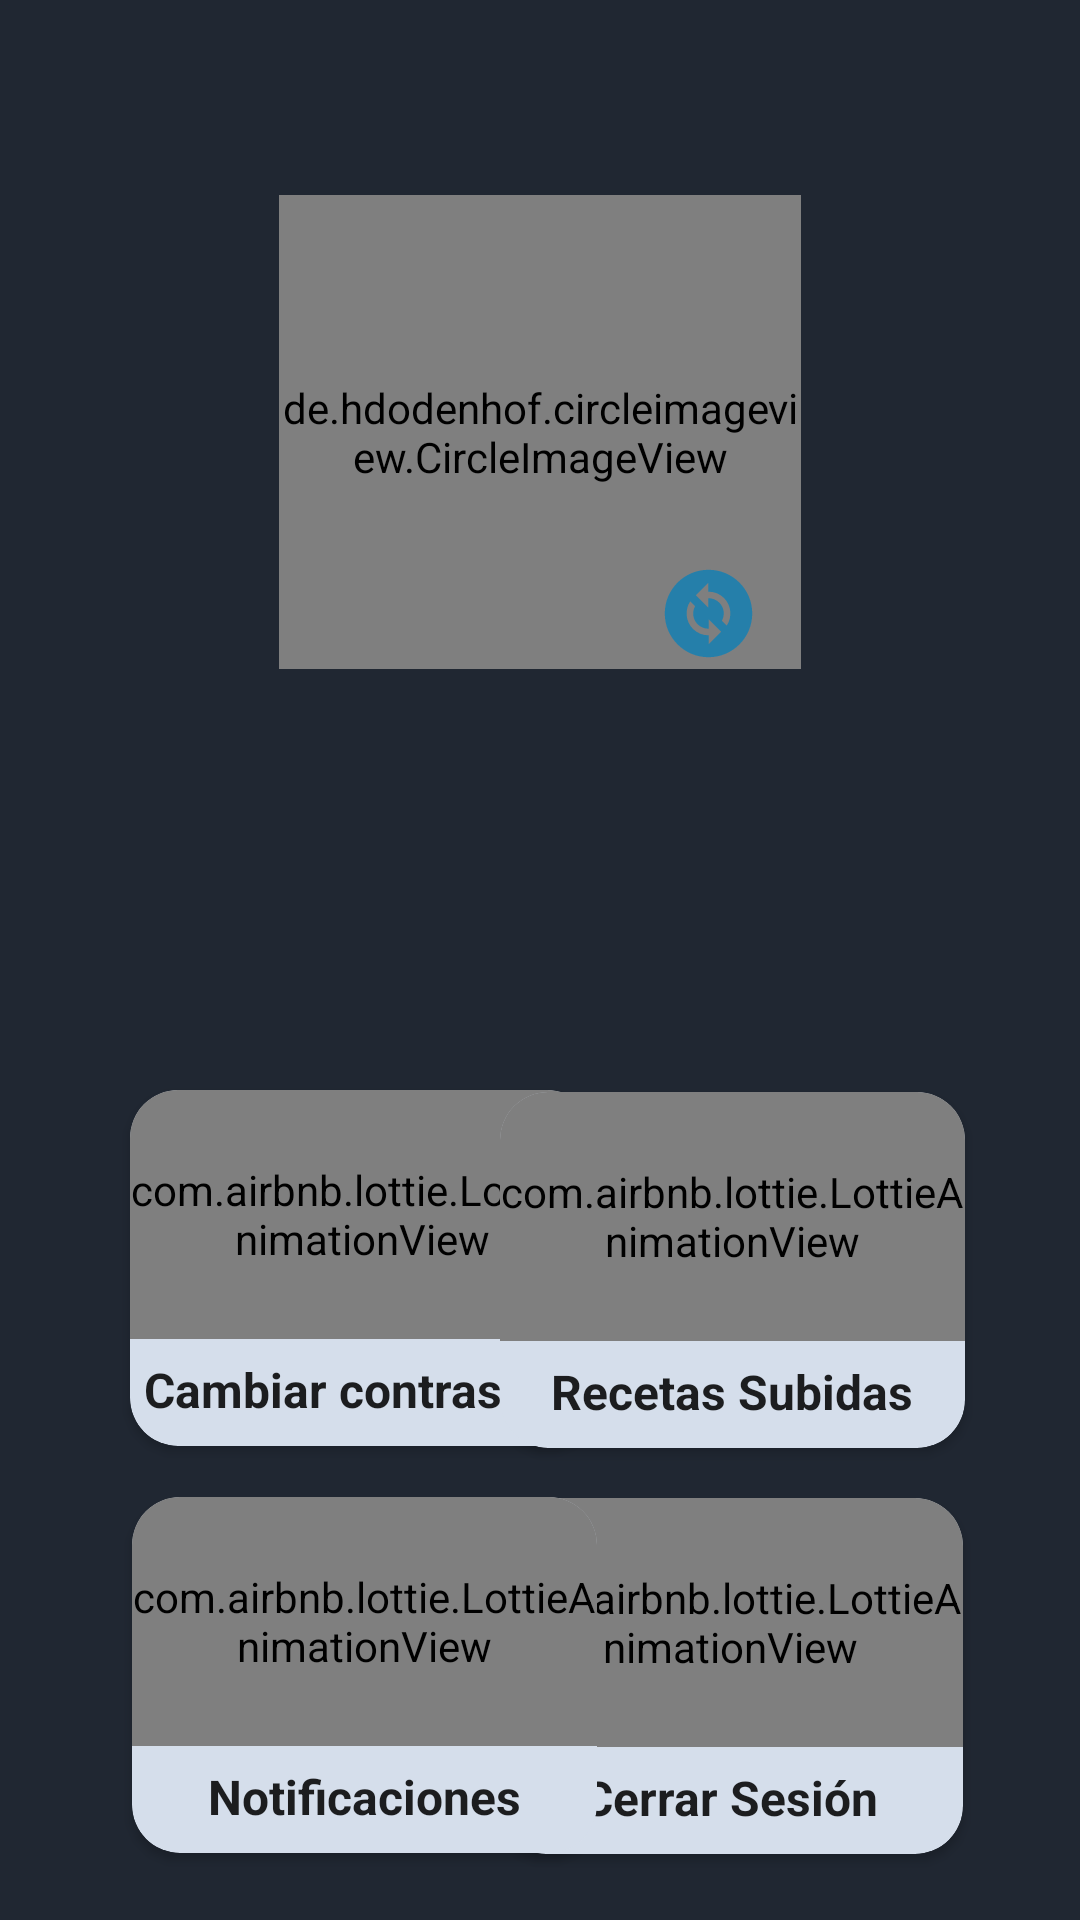

Locate icon controls on the screen. Image size 1080px×1920px, boxes as (x1, y1, x2, y2).
change circle: (665, 570, 752, 657)
